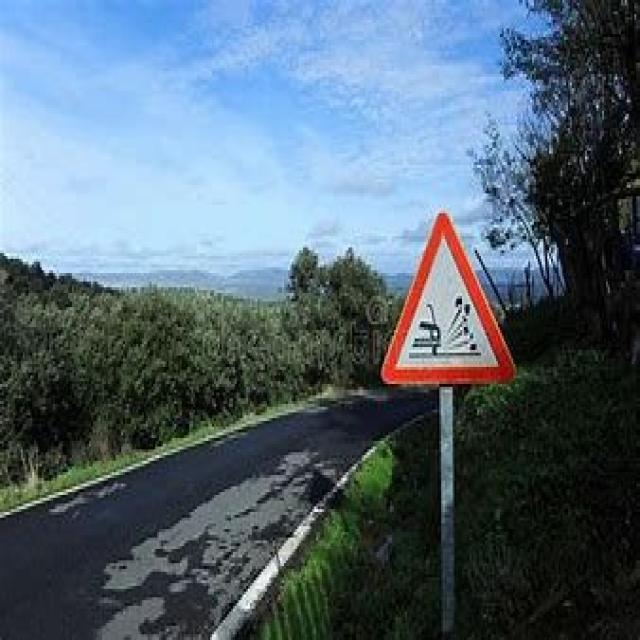road_rough: (381, 208, 515, 381)
